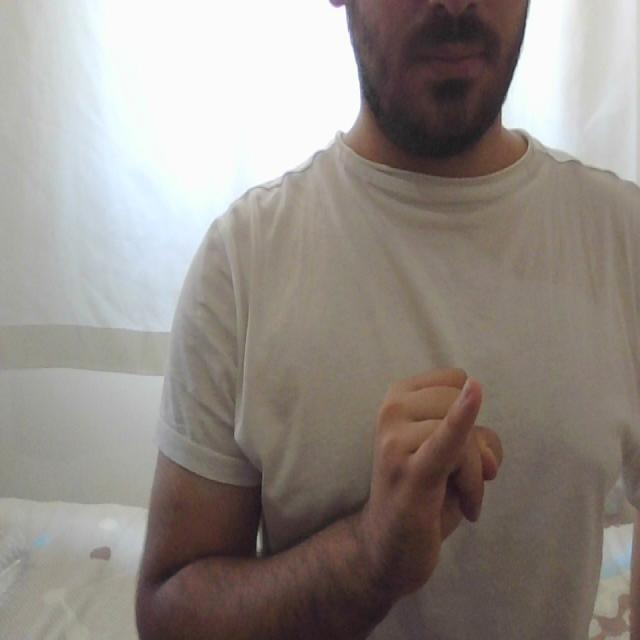kotu: (365, 355, 516, 546)
